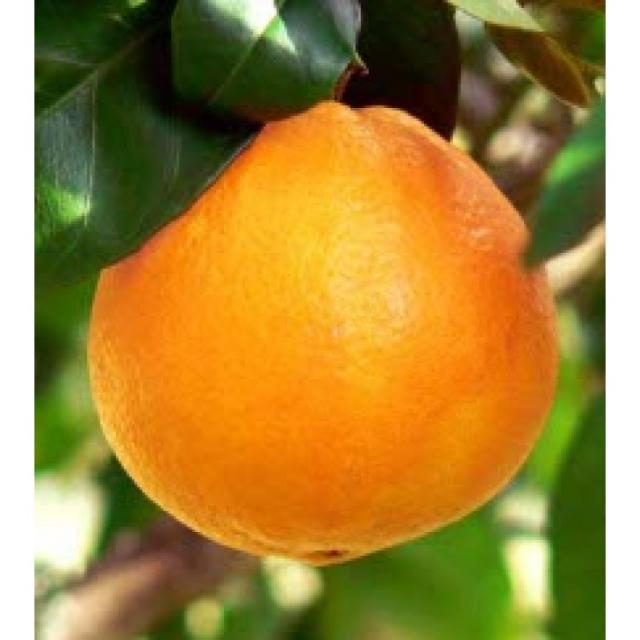orange: (89, 99, 560, 566)
